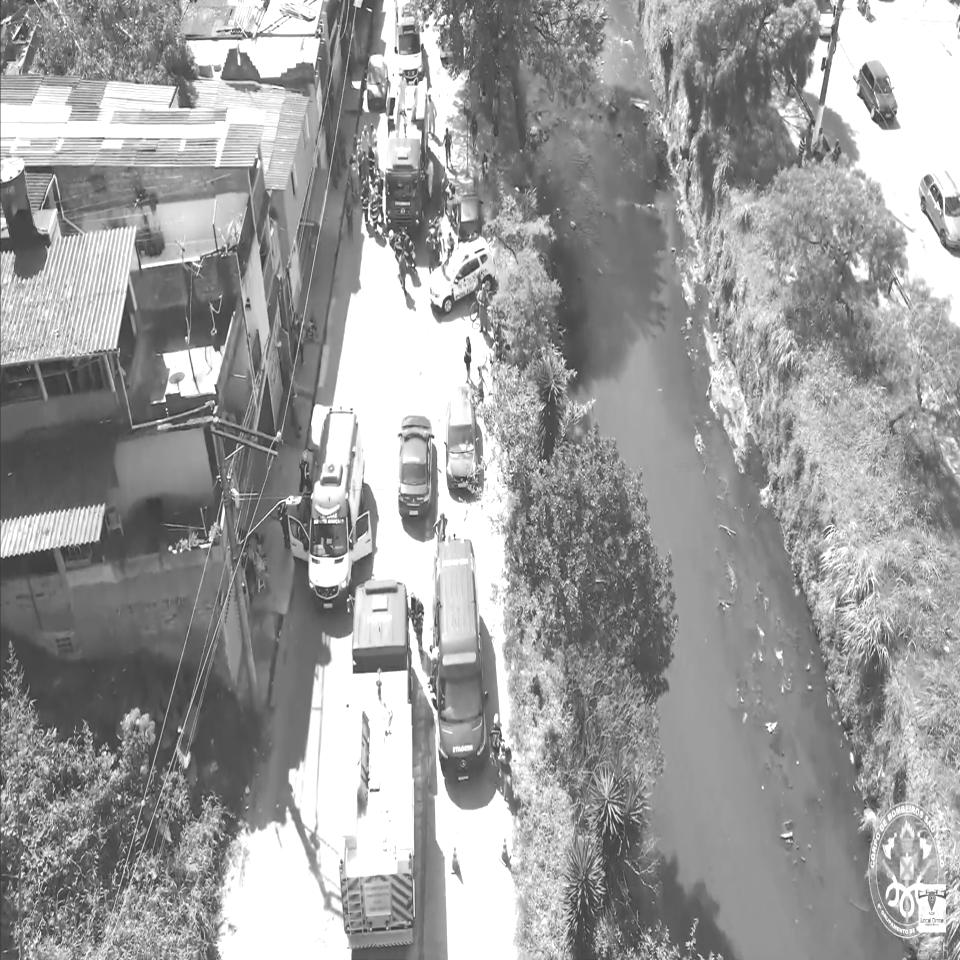bombeiro: (344, 577, 421, 959)
